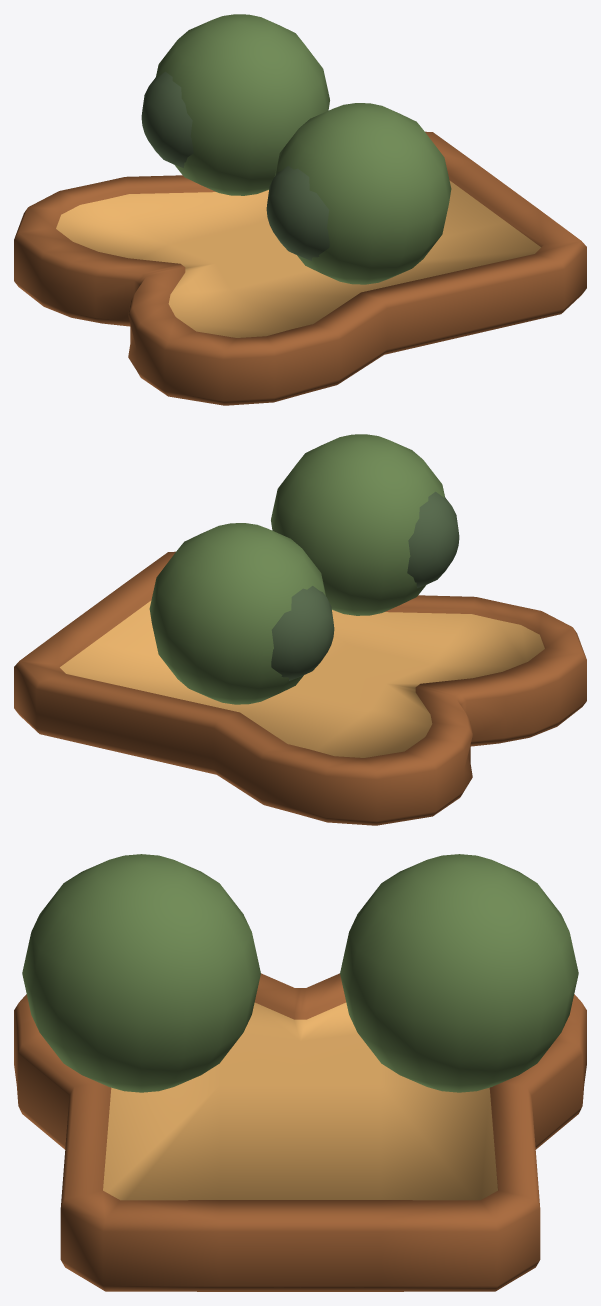
Rendered from Old Sandwich top bitch.fbx.
3 views of the same model, one above another, from view 1: azimuth 30°, elevation 25°; view 2: azimuth 150°, elevation 25°; view 3: azimuth 270°, elevation 25° (orthographic). The views are drawn at different scales.
Visible parts, largest first — view 1: Sandwich top.001; view 2: Sandwich top.001; view 3: Sandwich top.001.
Boxes of the visible parts, x1=… form: Sandwich top.001: x1=14, y1=14, x2=586, y2=405; Sandwich top.001: x1=14, y1=434, x2=586, y2=825; Sandwich top.001: x1=14, y1=854, x2=586, y2=1291.
Bounding box in the file's own units: 265 × 135 × 237.
